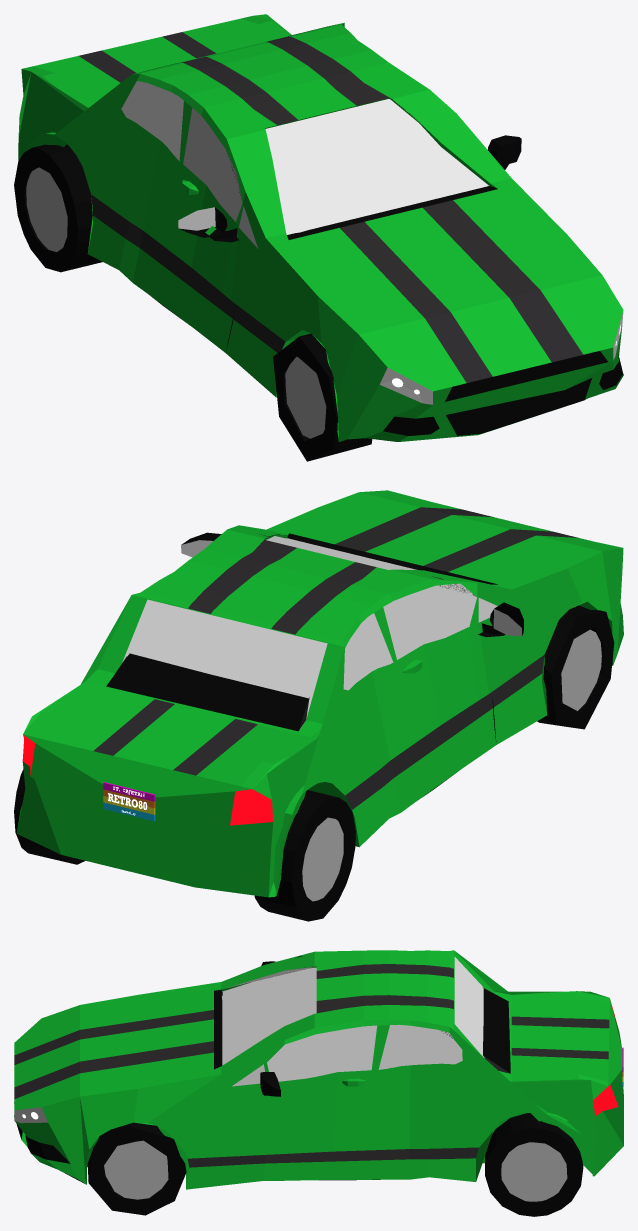
The model's file is 80s Car 2.glb.
3 renders of one model, top to bottom at view 1: azimuth 30°, elevation 25°; view 2: azimuth 150°, elevation 25°; view 3: azimuth 270°, elevation 25°, orthographic. The views are drawn at different scales.
Visible parts, largest first — view 1: Car Body, Rear Wheels, Front Wheels; view 2: Car Body, Rear Wheels, Front Wheels, St Cajetan License Plate; view 3: Car Body, Rear Wheels, Front Wheels.
Part boxes in pixels (bbox=[...]): Car Body: bbox=[18, 14, 623, 442]; Rear Wheels: bbox=[14, 144, 102, 272]; Front Wheels: bbox=[273, 333, 372, 461]; Car Body: bbox=[16, 490, 623, 897]; Rear Wheels: bbox=[14, 769, 355, 921]; Front Wheels: bbox=[537, 605, 614, 729]; St Cajetan License Plate: bbox=[103, 782, 155, 821]; Car Body: bbox=[14, 950, 623, 1189]; Rear Wheels: bbox=[485, 1113, 583, 1216]; Front Wheels: bbox=[87, 1122, 186, 1215].
Size of the model in its own units: 2.9 by 1.9 by 5.83.
